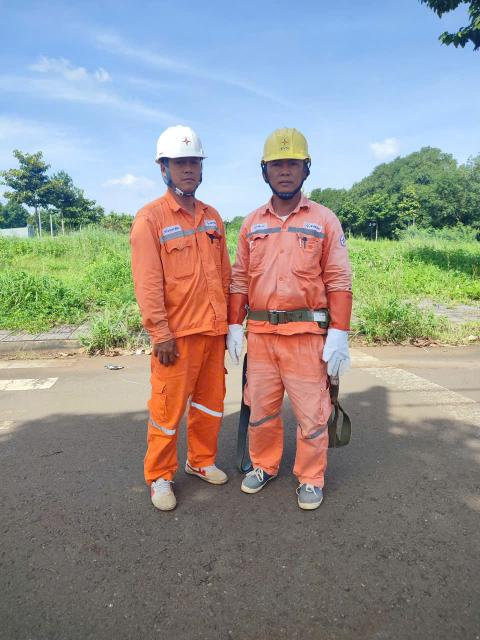gloves: (315, 328, 363, 382), (223, 319, 248, 362)
harness: (238, 298, 348, 332)
helmet: (155, 112, 216, 171), (250, 124, 321, 167)
shoes: (143, 463, 186, 517), (178, 453, 236, 490), (233, 461, 285, 496), (296, 477, 331, 515)
